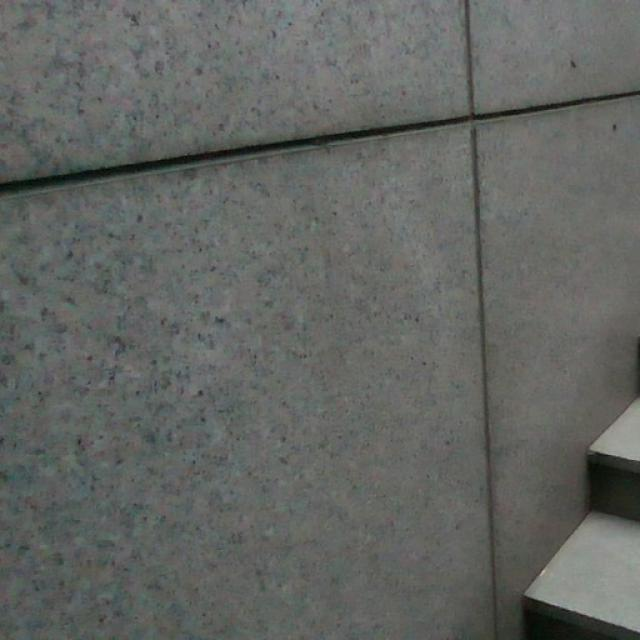stair: (545, 378, 640, 630)
